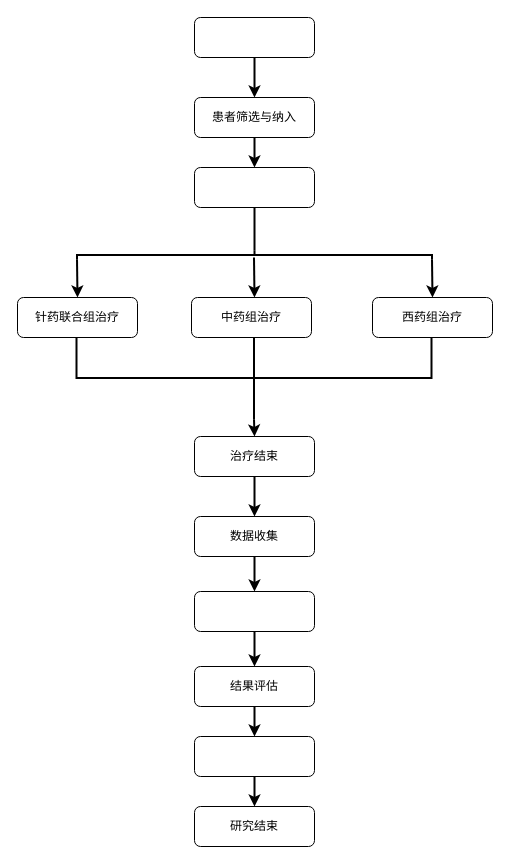
Some shapes in this 510 by 864 pixel diagram are drawn without their labels. Here are the shapes that lost their labels. From the top down, the centre of each, then its label:
[254,37]: 研究开始
[254,187]: 随机分组
[254,611]: 数据分析
[254,756]: 撰写报告
